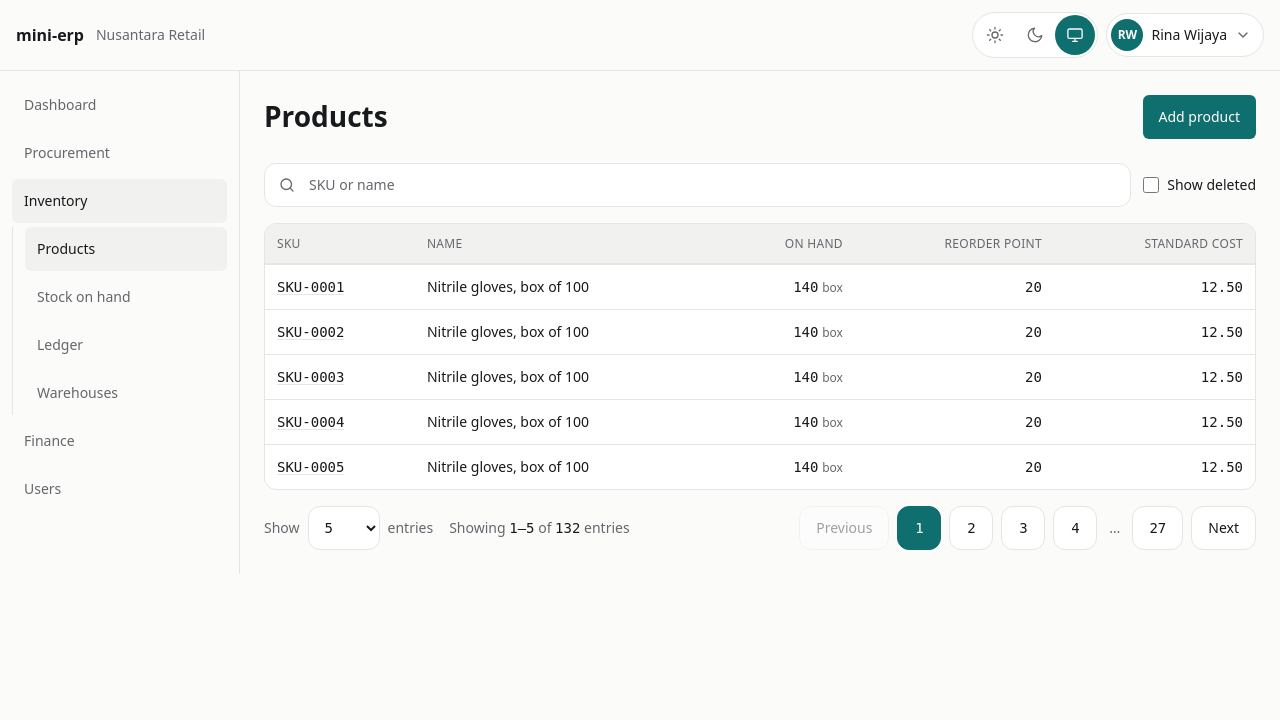
FE28 — the page size is a control, and it reaches the server › sends the chosen size, and goes back to page 1 when it changes
Expected: the link "mini-erp" is shown, [16,23,84,47]
Expected: the link "SKU-0001" is shown, [277,279,344,295]
Click the button named "Page 3".
click(1023, 528)  # box [1001,506,1045,550]
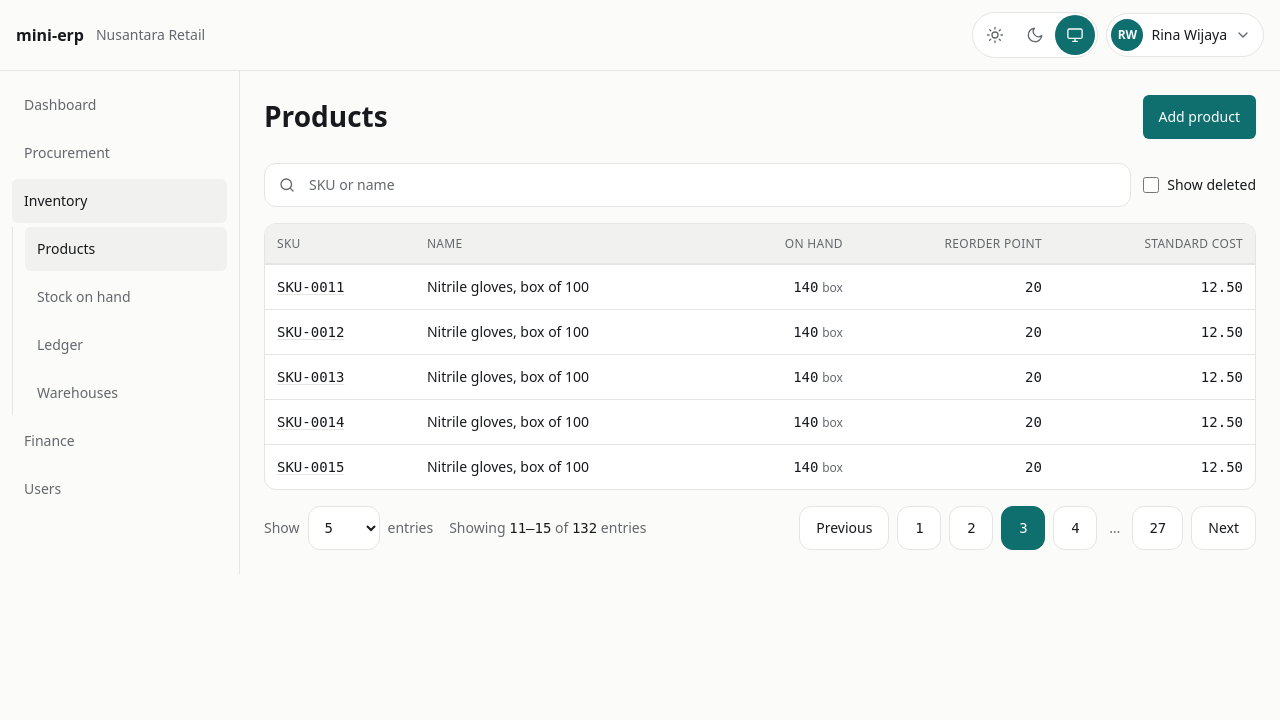
Now the link "SKU-0011" is shown, box [277,279,344,295]
Select "50" in the dropdown at (344, 528), box [308,506,380,550]
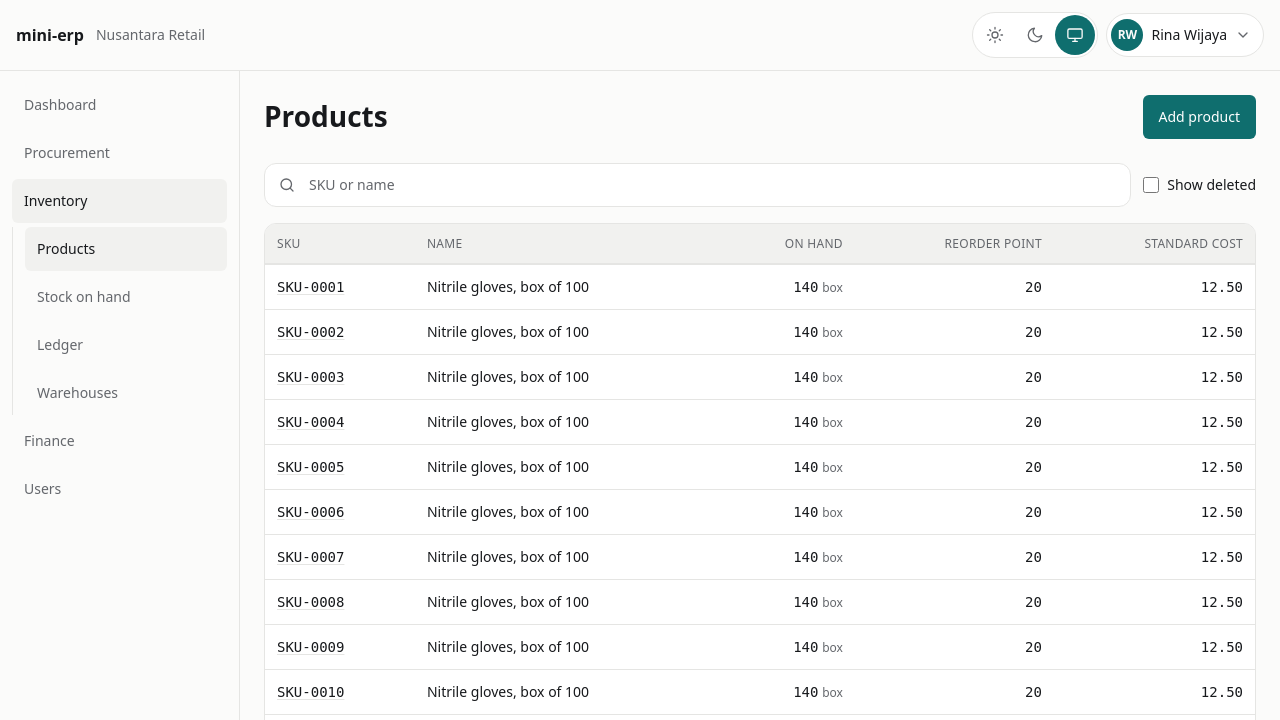
Now the link "SKU-0001" is shown, box [277,279,344,295]
